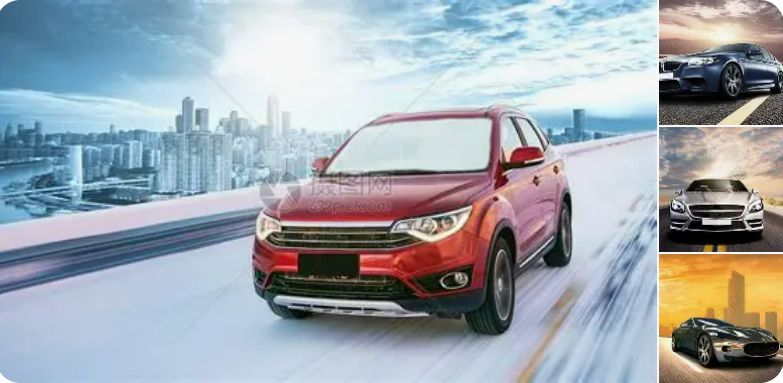car: (238, 99, 582, 339), (660, 20, 783, 116), (665, 156, 773, 236), (672, 301, 779, 380)
